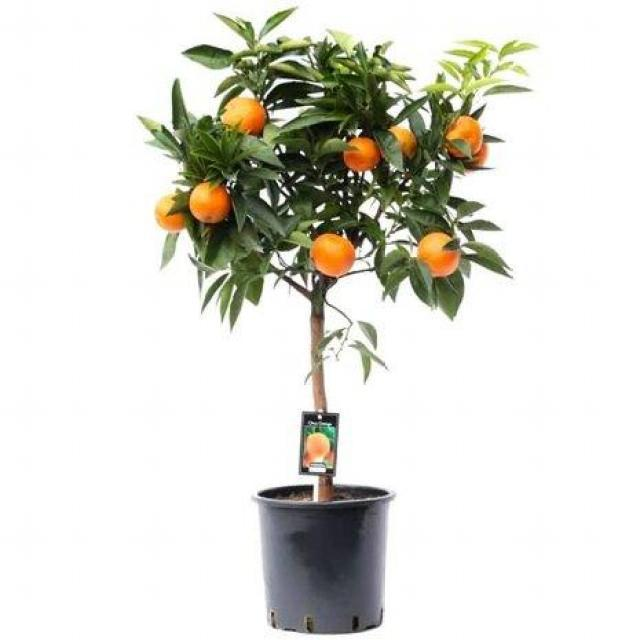Jeruk Sudah Matang: (214, 80, 279, 150), (435, 102, 490, 168), (406, 226, 467, 280), (370, 113, 427, 166), (147, 184, 198, 239), (308, 228, 362, 278), (185, 177, 235, 230), (334, 130, 390, 174)
